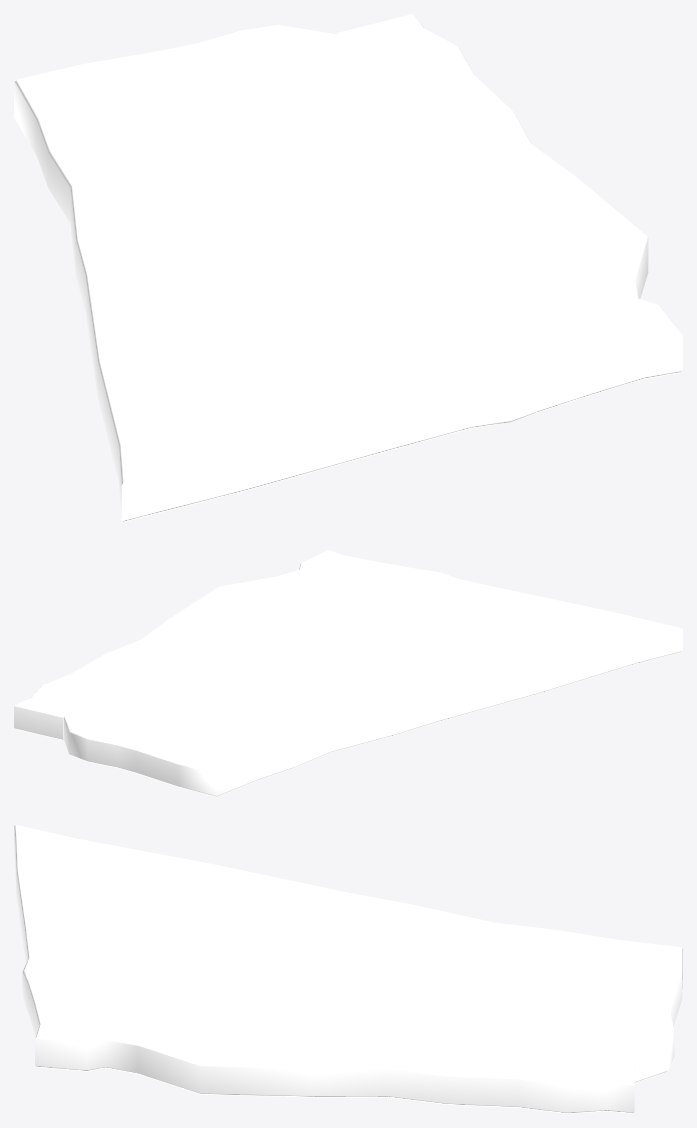
Rendered from ice_floe_large_007.glb.
The picture shows the model from 3 angles, top to bottom: view 1: azimuth 30°, elevation 25°; view 2: azimuth 150°, elevation 25°; view 3: azimuth 270°, elevation 25°; orthographic projection. The views are drawn at different scales.
Parts seen in each view (by area): view 1: ice_floe_large_007; view 2: ice_floe_large_007; view 3: ice_floe_large_007.
Part boxes in pixels (left/top/right/bottom): ice_floe_large_007: left=14, top=14, right=682, bottom=521; ice_floe_large_007: left=14, top=550, right=682, bottom=796; ice_floe_large_007: left=14, top=825, right=682, bottom=1113.
Size of the model in its own units: 17.36 by 1.01 by 18.88.
1 material, 1 textured.
